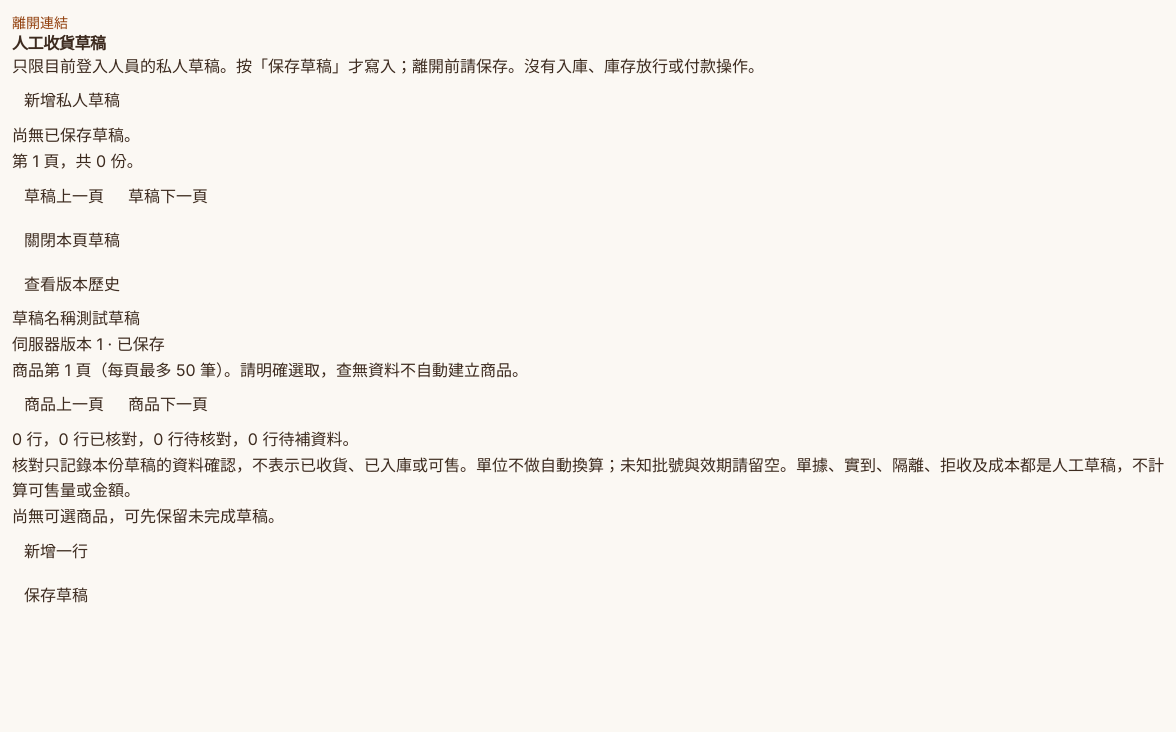
Test: recovers a lost save response with GET without a second PUT
Replace the text in the field showing "測試草稿" with "修改後" at [193, 319], box left=76, top=306, right=310, bottom=332
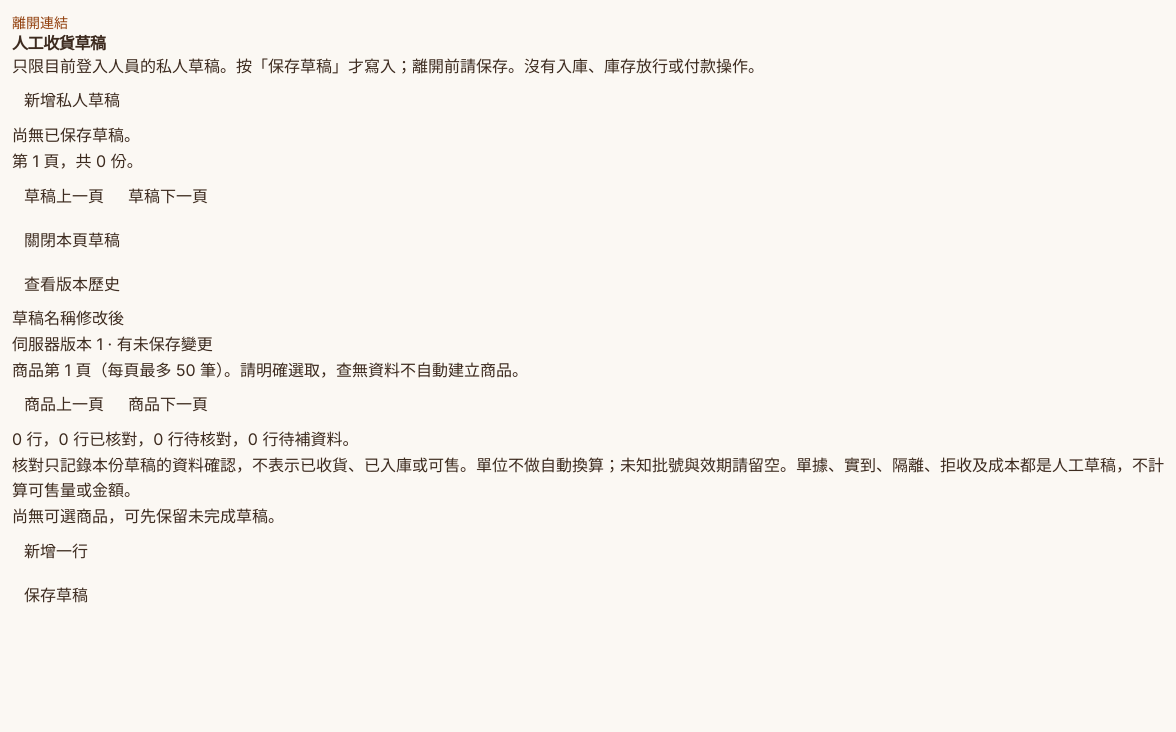
Click the button "保存草稿" at [56, 596], box left=12, top=574, right=100, bottom=618
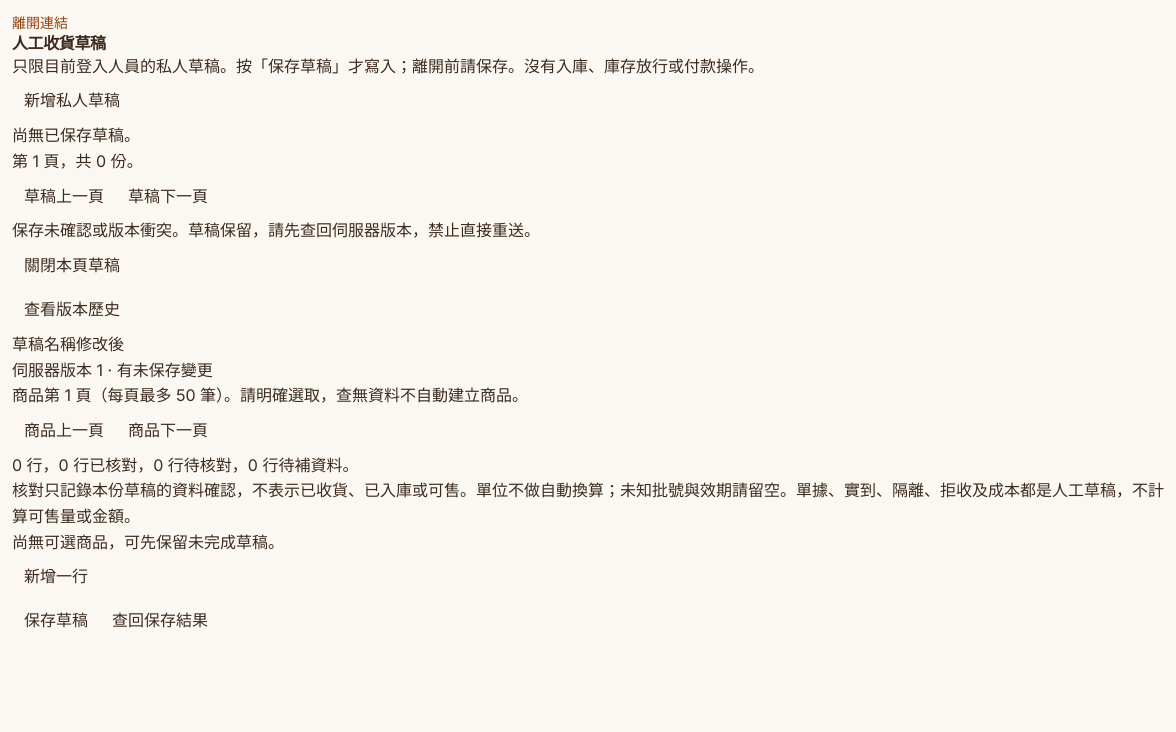
expect the button "查回保存結果" is shown: met
expect the button "保存草稿" is disabled: met, box left=12, top=599, right=100, bottom=643
Click the button "查回保存結果" at [160, 621], box left=100, top=599, right=220, bottom=643
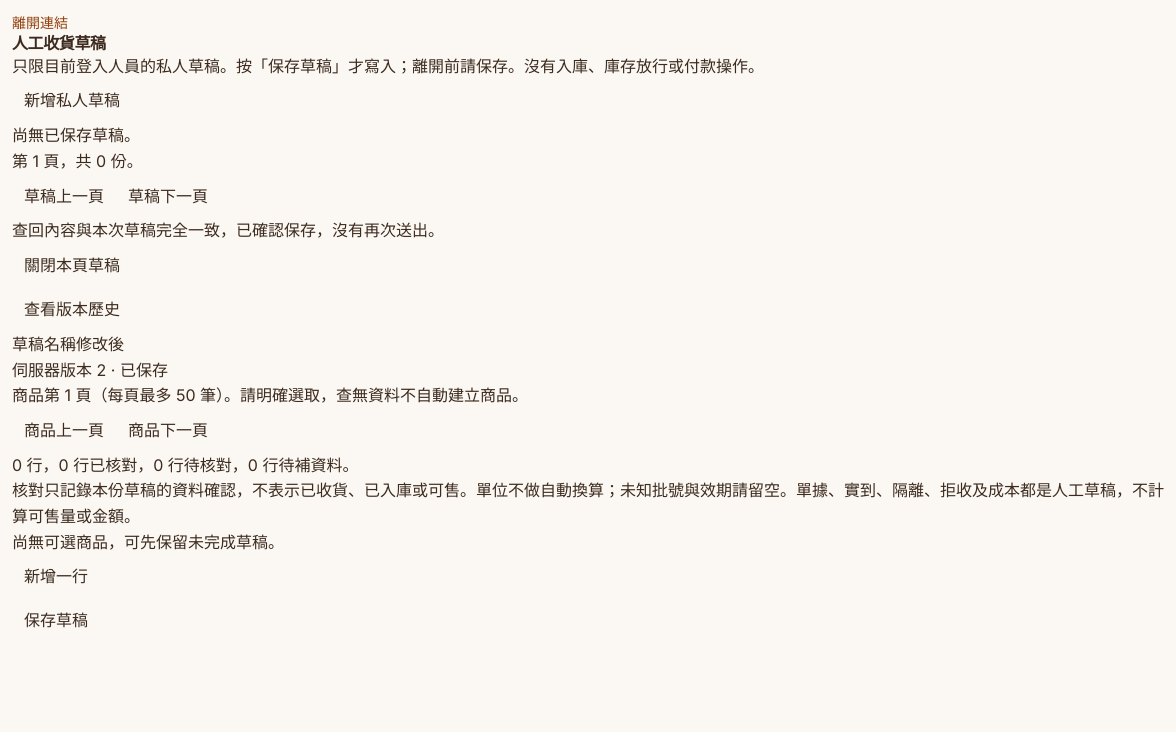
expect the text "查回內容與本次草稿完全一致，已確認保存，沒有再次送出。" is shown: met, box left=12, top=220, right=444, bottom=240
